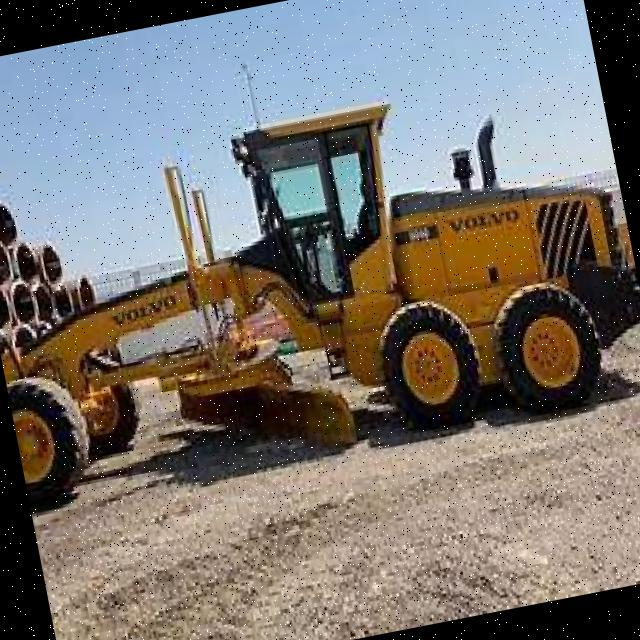Grader: (0, 47, 640, 528)
